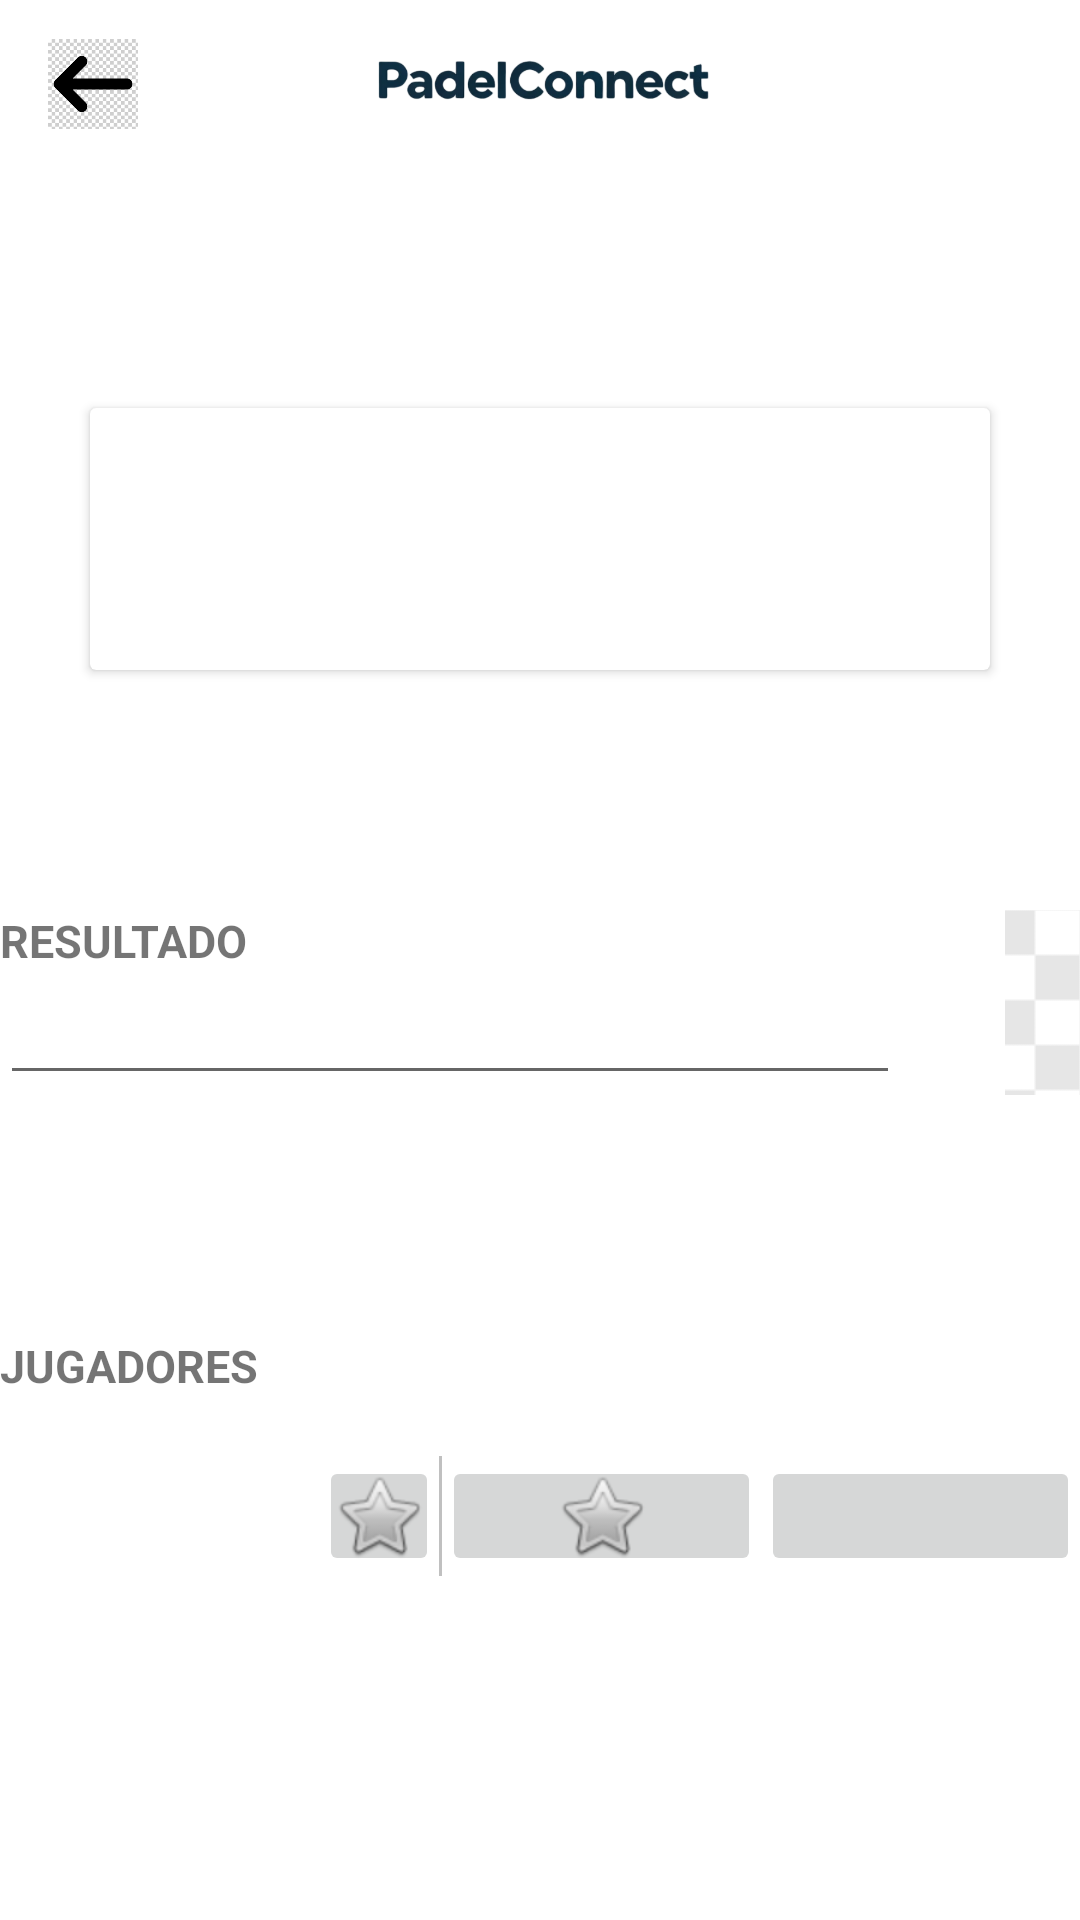

Locate icon controls on the screen. Image size 1080px×1920px, boxes as (left=x1, top=y1, right=x2, bottom=y2).
back: (left=48, top=39, right=138, bottom=129)
